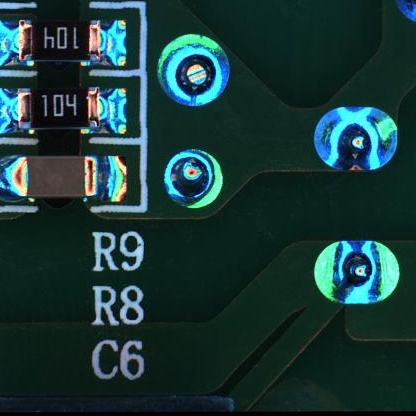spot: (312, 239, 400, 306), (312, 106, 399, 173), (156, 33, 231, 106), (163, 148, 223, 211)
